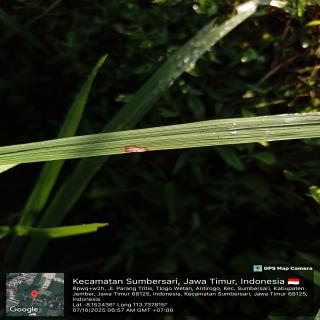Blast: (122, 144, 152, 153)
